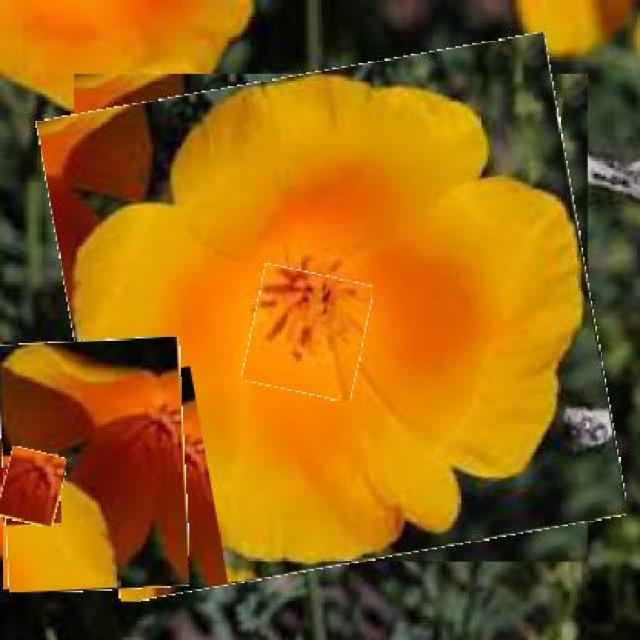Flower: (55, 53, 609, 584), (0, 338, 189, 594), (248, 269, 369, 398), (0, 449, 65, 526)
